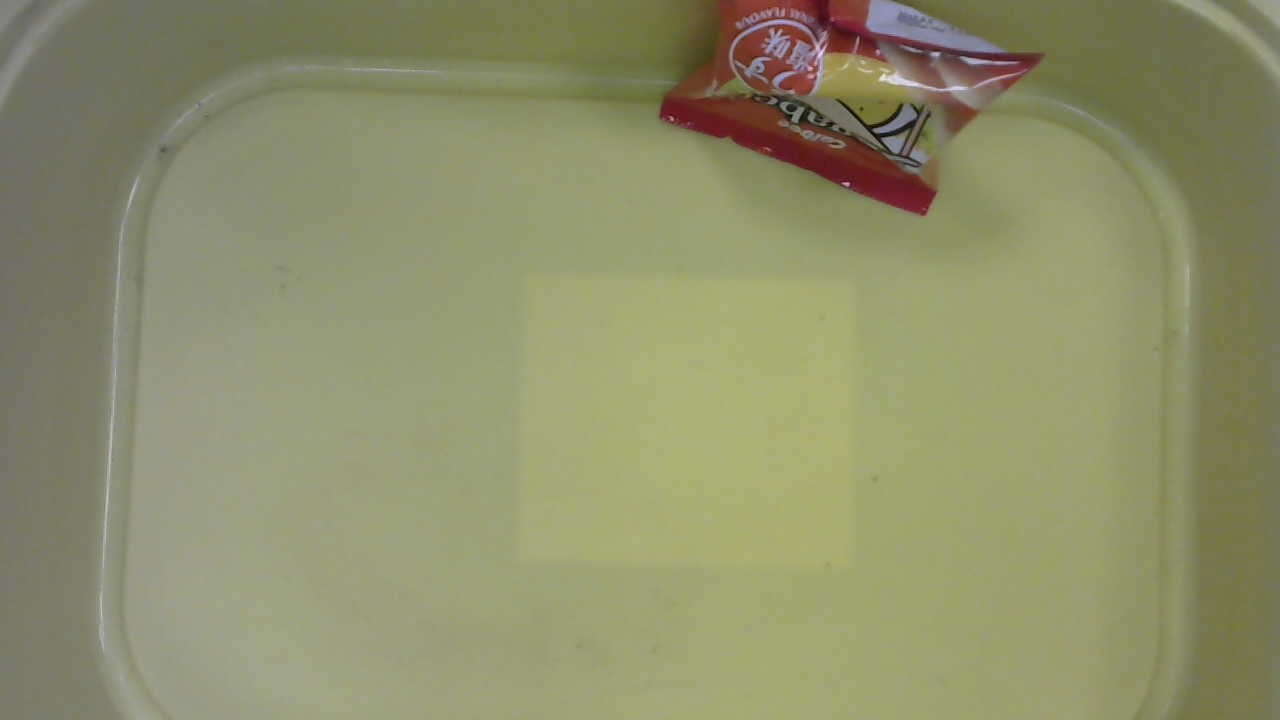JagabeeFarmer: (635, 1, 1063, 240)
